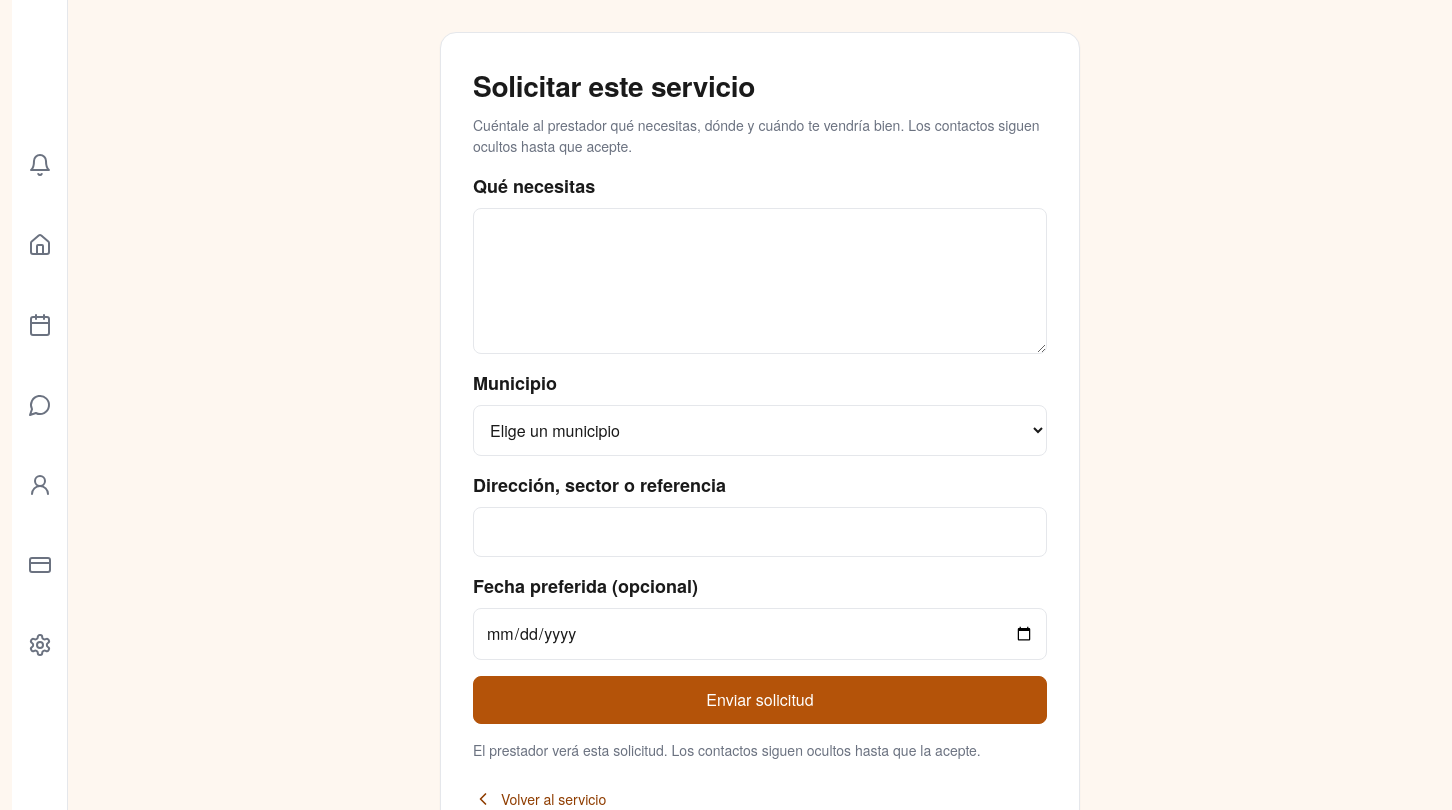
Nueva solicitud › exige descripción, municipio y ubicación antes de enviar
The image size is (1452, 810).
Click the button "Enviar solicitud": (760, 700) [473,676,1047,724]
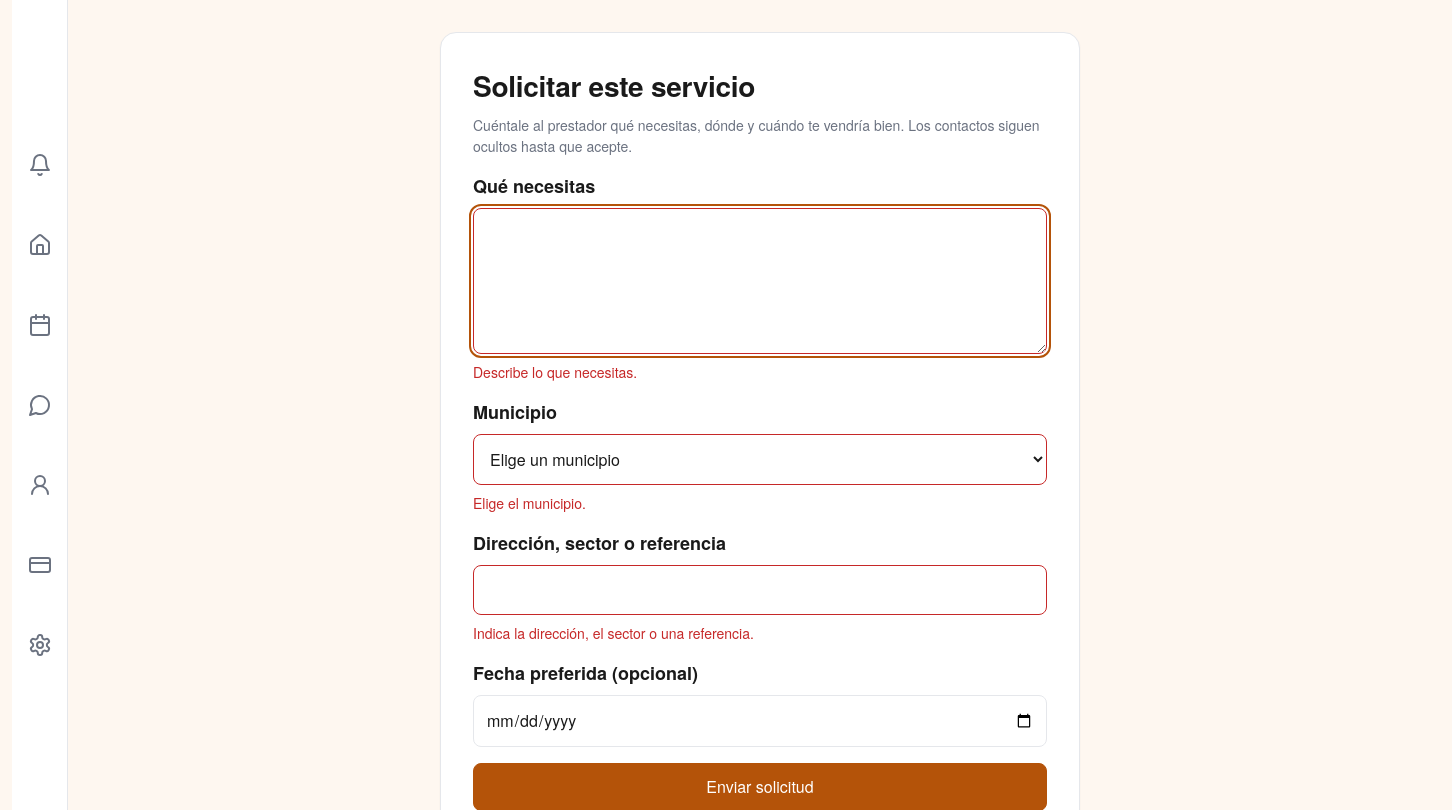
Check: the text "Describe lo que necesitas." is shown, box [473,362,637,382]
Check: the text "Elige el municipio." is shown, box [473,493,586,513]
Check: the text "Indica la dirección, el sector o una referencia." is shown, box [473,623,754,643]
